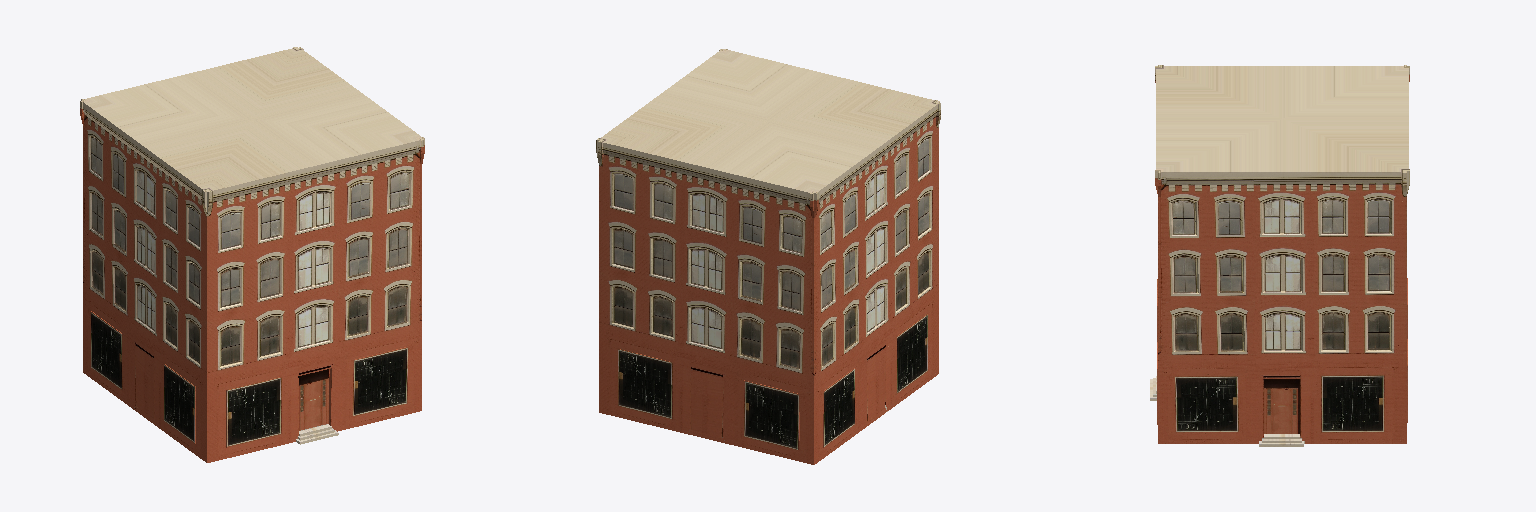
3 views of the same model, side by side, from view 1: azimuth 30°, elevation 25°; view 2: azimuth 150°, elevation 25°; view 3: azimuth 270°, elevation 25° (orthographic).
Visible parts, largest first — view 1: Plane01; view 2: Plane01; view 3: Plane01.
Part boxes in pixels (x1,y1,x2,y2): Plane01: (80,47,424,462); Plane01: (596,49,940,464); Plane01: (1150,65,1409,446).
Size of the model in its own units: 2662 by 3078 by 2662.
1 materials, 1 textured.